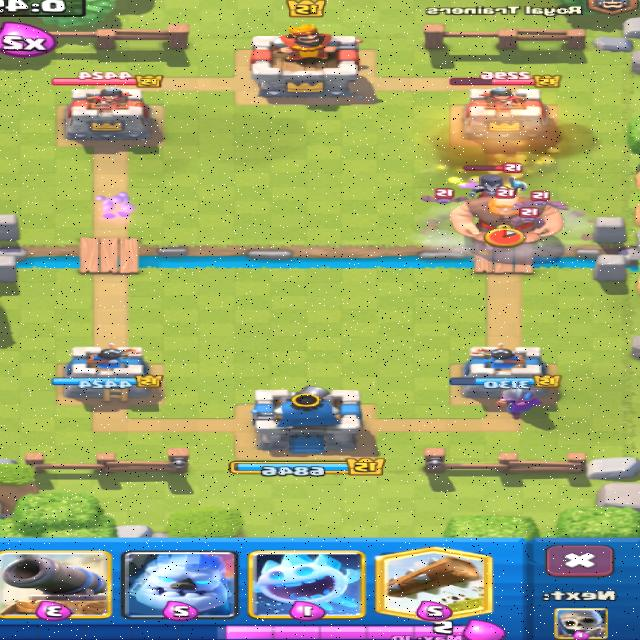Enemy-Bat: (514, 191, 567, 209), (516, 200, 567, 214), (422, 189, 468, 204), (518, 207, 545, 226)
Enemy-KingTower: (251, 25, 362, 98)
Enemy-NightWitch: (464, 162, 527, 197), (467, 173, 506, 198)
Enemy-PrincessTower: (464, 87, 555, 152), (66, 88, 155, 146)
Player-KingTower-Activated: (253, 386, 360, 453)
Player-Musketeer-Evo: (497, 388, 542, 419)
Player-PrincessTower: (52, 344, 161, 401), (450, 344, 561, 397)
